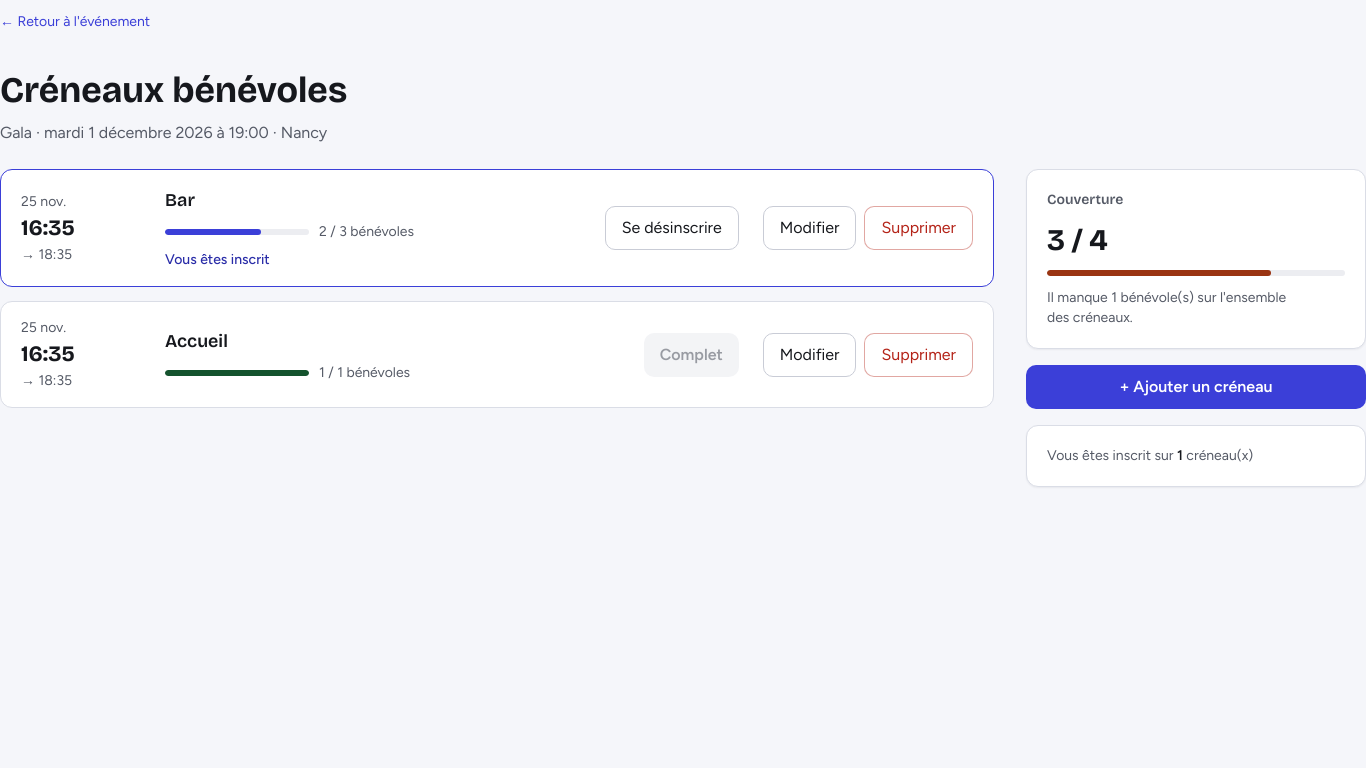
Scenario: VolunteerShiftsPage as organizer › deletes a shift after a confirmation
Click the button with aria-label "Supprimer Bar" at (919, 228), box top-left (864, 206), bottom-right (973, 250)
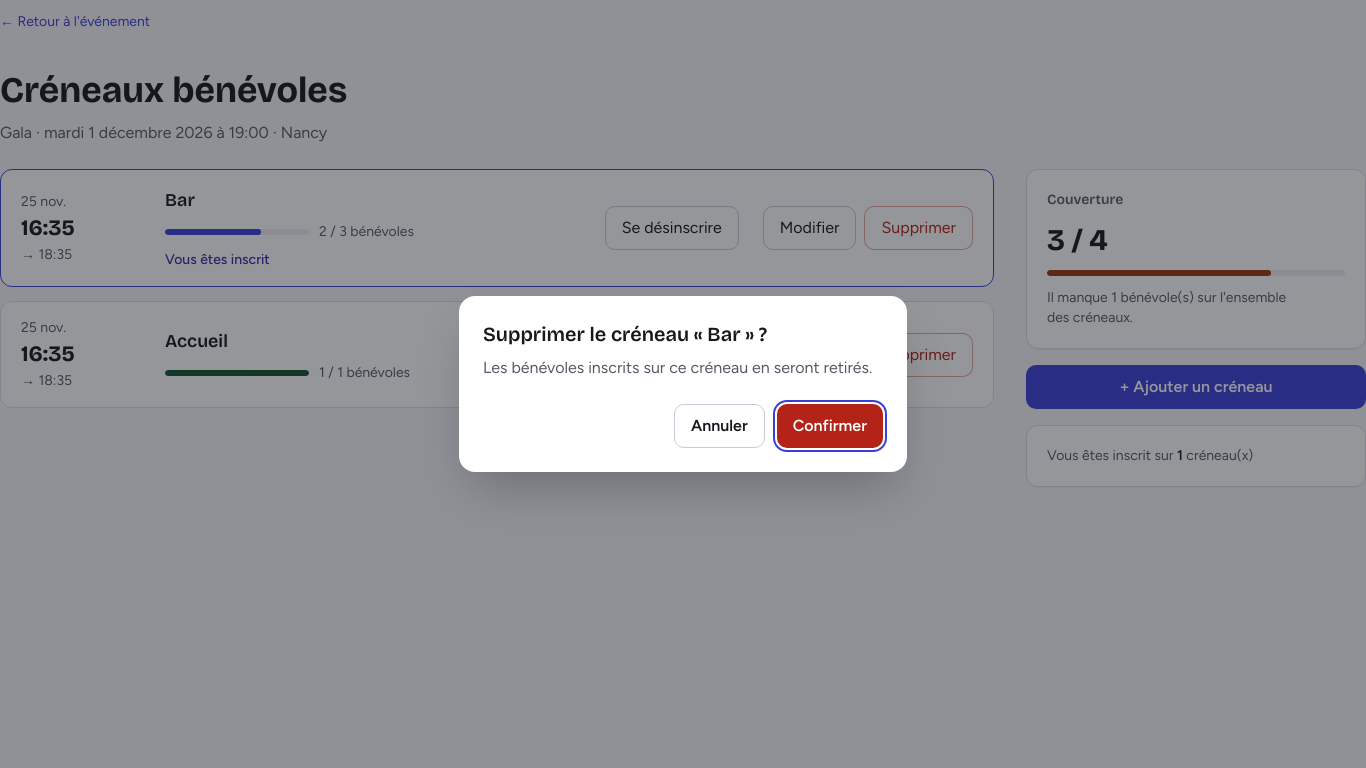
Click the button "Confirmer" at (830, 426), box top-left (777, 404), bottom-right (883, 448)
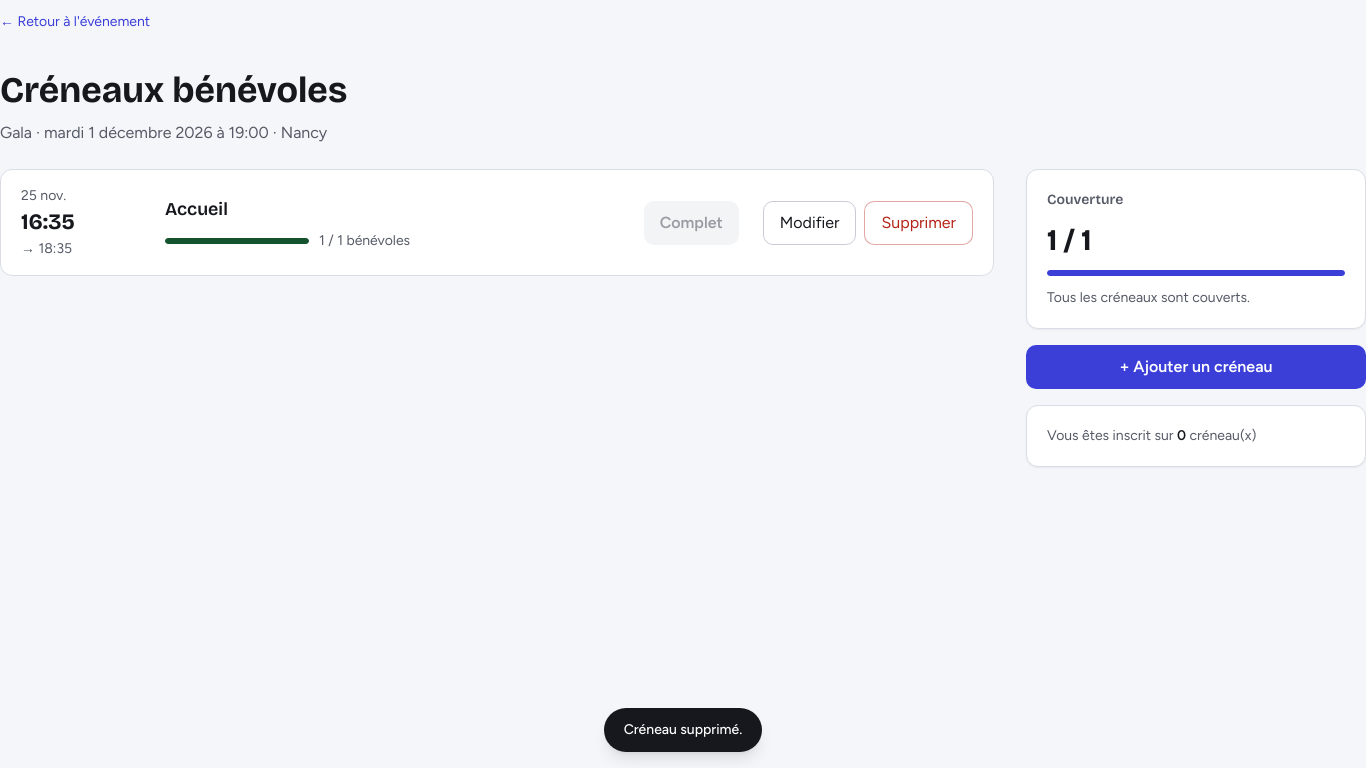
Check: the heading "Bar" is gone
